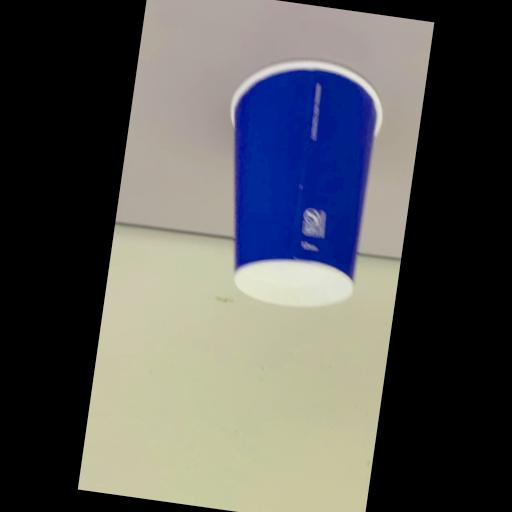lp_paper_cup: (194, 50, 394, 317)
